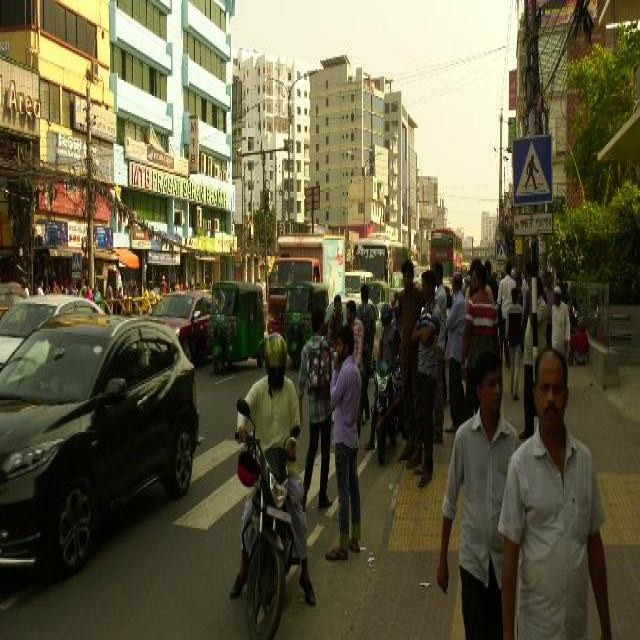10: (229, 332, 319, 638), (366, 353, 402, 468)
11: (266, 228, 346, 337)
15: (0, 310, 201, 590)
17: (206, 276, 268, 375), (281, 280, 329, 364), (366, 278, 390, 310)
5: (148, 290, 214, 357)
Truck: (353, 230, 411, 286), (428, 226, 462, 279)
